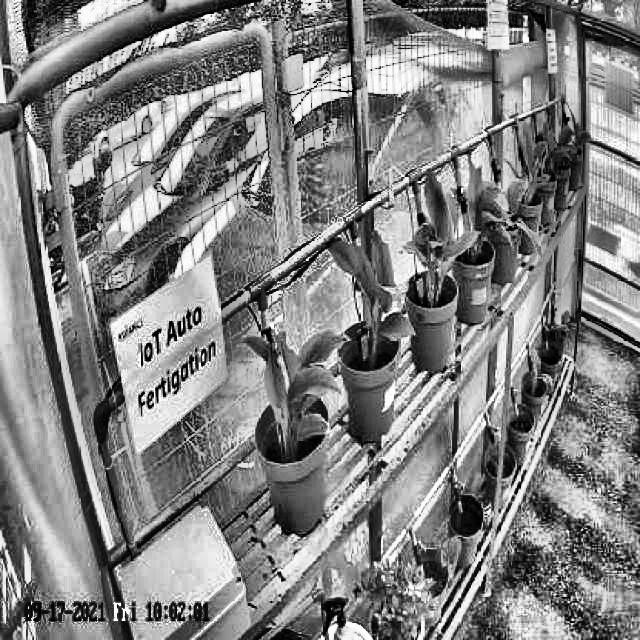plants: (243, 329, 351, 440), (328, 226, 416, 345), (406, 170, 476, 284), (462, 154, 510, 262), (522, 127, 550, 201), (569, 100, 591, 154)
